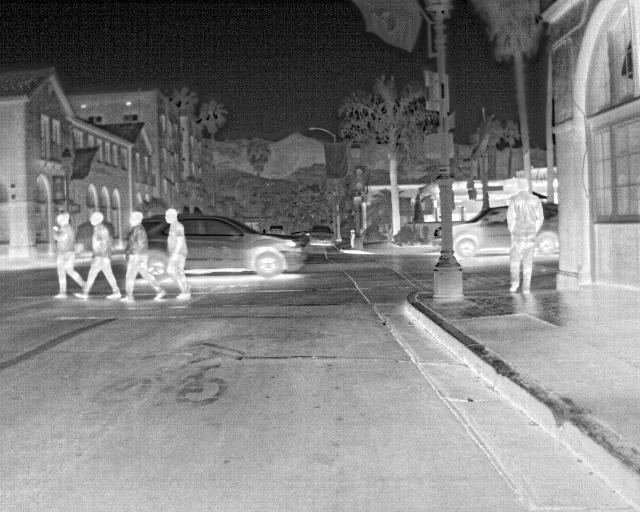bicycle: (177, 212, 307, 280), (452, 204, 513, 256), (143, 214, 170, 282), (533, 202, 557, 253), (305, 223, 335, 247), (430, 224, 443, 255), (266, 223, 286, 240)
empty: (118, 208, 168, 305), (506, 174, 544, 296), (74, 210, 124, 298), (49, 210, 86, 298), (161, 208, 193, 300)
